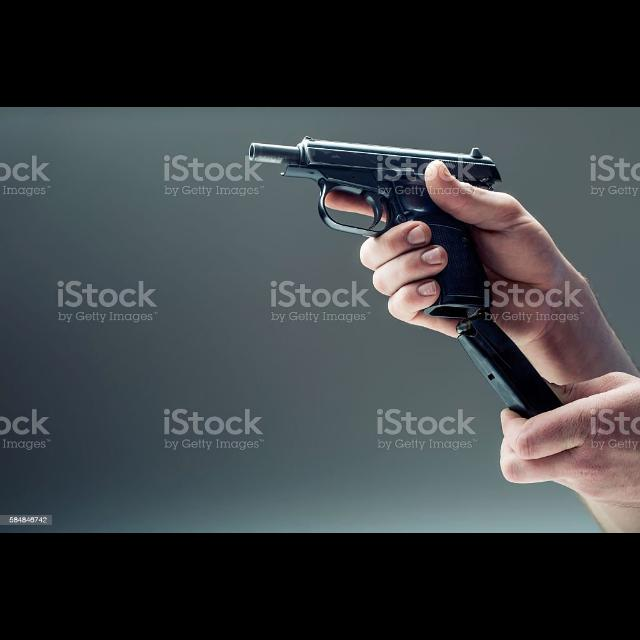handgun: (244, 132, 503, 310)
